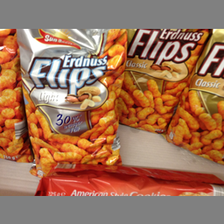chips: (16, 29, 126, 174), (122, 30, 195, 138), (176, 29, 224, 158)
